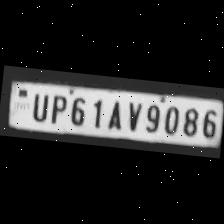0: (160, 103, 182, 136)
1: (86, 94, 108, 129)
6: (64, 94, 90, 128), (198, 105, 221, 139)
8: (178, 104, 201, 138)
9: (140, 100, 162, 134)
A: (102, 96, 125, 130)
P: (46, 91, 68, 125)
U: (26, 89, 50, 122)
V: (121, 97, 143, 132)
